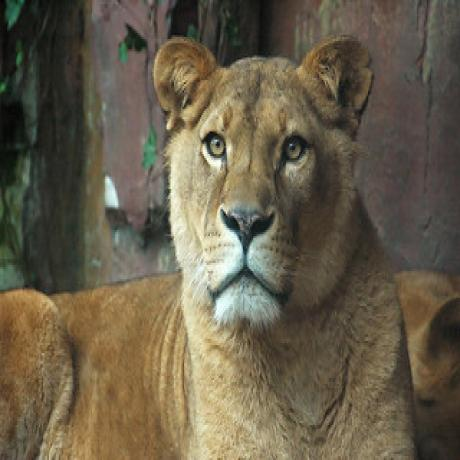Lion: (0, 33, 418, 460)
